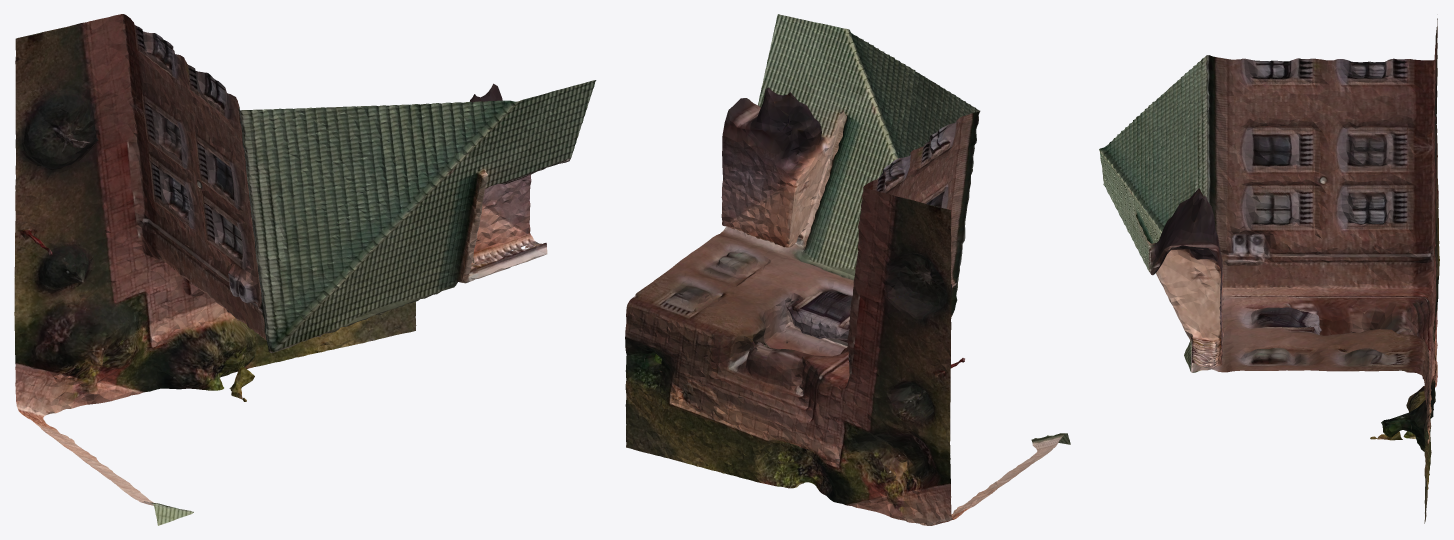
File: tile_6_9.obj
3 views of the same model, side by side, from view 1: azimuth 30°, elevation 25°; view 2: azimuth 150°, elevation 25°; view 3: azimuth 270°, elevation 25° (orthographic). The views are drawn at different scales.
Visible parts, largest first — view 1: texture_0; view 2: texture_0; view 3: texture_0.
Boxes of the visible parts, x1,y1,x2,y2 form: texture_0: [14, 14, 596, 525]; texture_0: [625, 14, 1070, 525]; texture_0: [1099, 18, 1439, 523].
Size of the model in its own units: 13.88 by 12.92 by 11.7.
Materials: 1 (1 with a texture image).
